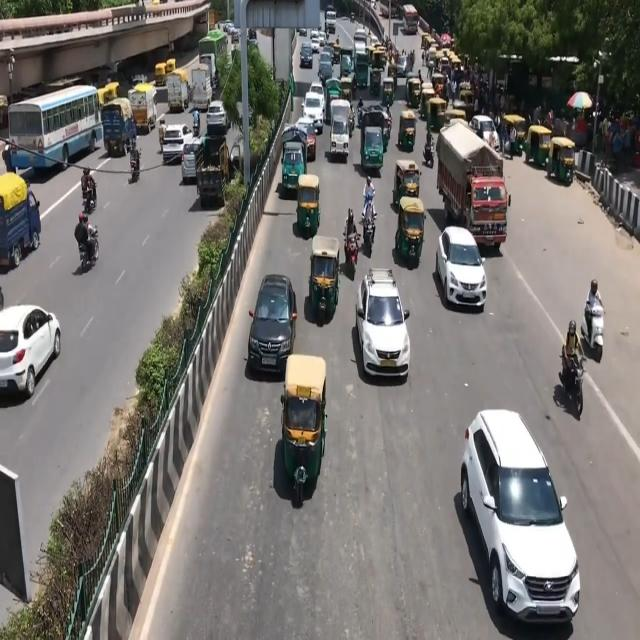Truck: (451, 114, 509, 248)
